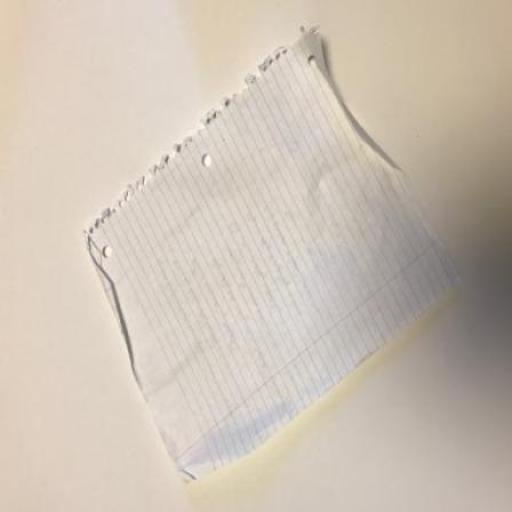paper: (36, 2, 474, 511)
